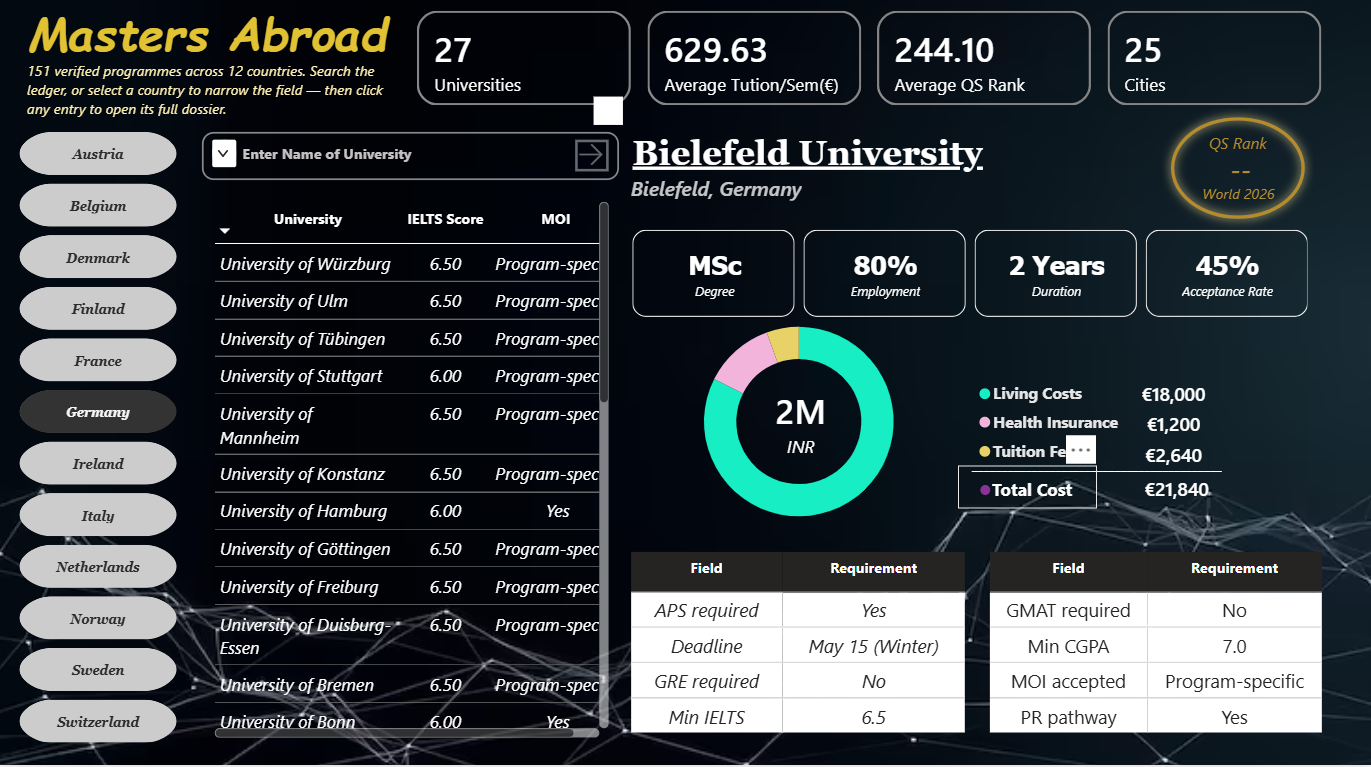

The page's visual inventory and layout, read from the dashboard file:
{"tool":"powerbi","page":{"name":"UniversityDashboard","canvas":[1280,720],"ordinal":0},"visuals":[{"type":"advancedSlicerVisual","fields":{"Values":["All Universities.Country"]},"box":[15,124.9,156.6,584.8],"z":0},{"type":"cardVisual","fields":{"Data":["Count(All Universities.University)","Avg(All Universities.Tuition/Sem (€))","Avg(All Universities.QS Ranking)","Count(All Universities.City)"]},"box":[384.8,11.7,853,98.3],"z":1000},{"type":"tableEx","fields":{"Values":["All Universities.University","Sum(All Universities.Min IELTS)","All Universities.MOI Accepted"]},"box":[194.9,189.9,378.2,508.1],"z":2000},{"type":"textSlicer","fields":{"Values":["All Universities.University"]},"box":[184.9,124.9,398.2,55],"z":3000},{"type":"donutChart","fields":{"Category":["Cost Category.Segment"],"Y":["Cost Category.Segment Value"]},"box":[572.7,284,482.8,230.3],"z":4000},{"type":"cardVisual","fields":{"Data":["All Universities.Effective University"]},"box":[573.1,106.6,509.8,81.6],"z":5000},{"type":"cardVisual","fields":{"Data":["All Universities.Spotlight Place"]},"box":[583.7,160.9,230.3,39.4],"z":6000},{"type":"cardVisual","fields":{"Data":["All Universities.Spotlight Total Cost INR"]},"box":[698.9,353.4,96.2,91.5],"z":7000},{"type":"cardVisual","fields":{"Data":["All Universities.Spotlight Degree","All Universities.Spotlight Employment Rate","All Universities.Spotlight Duration","All Universities.Spotlight Acceptance Rate"]},"box":[572.7,204,665.8,115.2],"z":8000},{"type":"shape","box":[1082.9,106.6,141.6,111.6],"z":9000},{"type":"cardVisual","fields":{"Data":["All Universities.Spotlight QS Rank"]},"box":[1090,144.9,133.3,35],"z":10000},{"type":"textbox","box":[1097,172,115.2,31.6],"z":11000},{"type":"cardVisual","fields":{"Data":["All Universities.Spotlight Living Cost","All Universities.Spotlight Tuition Fees","All Universities.Spotlight Health Insurance"]},"box":[1020.7,340.8,145.1,118.3],"z":12000},{"type":"cardVisual","fields":{"Data":["All Universities.Spotlight Total Cost"]},"box":[1021,430,151.5,58.4],"z":13000},{"type":"textbox","box":[856,425,332.9,28.4],"z":14000},{"type":"textbox","box":[893,439,129.4,41],"z":15000},{"type":"tableEx","fields":{"Values":["Requirement Fields.Field","All Universities.Requirement Value"]},"box":[583.1,514.8,323.2,194.9],"z":16000},{"type":"tableEx","fields":{"Values":["Requirement Fields.Field","All Universities.Requirement Value"]},"box":[916.3,514.8,321.5,204.9],"z":17000},{"type":"textbox","box":[11,2,368.2,101.6],"z":18000},{"type":"textbox","box":[22,58.3,364.8,71.6],"z":19000}]}

Visuals, with their boxes in screenshot pixels (x1, y1, x2, y2), scaled from the page's 1280x720 canvas onto the 1371x767 screenshot:
advancedSlicerVisual - All Universities.Country: <bbox>16, 133, 184, 756</bbox>
cardVisual - Count(All Universities.University) x Avg(All Universities.Tuition/Sem (€)): <bbox>412, 12, 1326, 117</bbox>
tableEx - All Universities.University x Sum(All Universities.Min IELTS): <bbox>209, 202, 614, 744</bbox>
textSlicer - All Universities.University: <bbox>198, 133, 625, 192</bbox>
donutChart - Cost Category.Segment x Cost Category.Segment Value: <bbox>613, 303, 1131, 548</bbox>
cardVisual - All Universities.Effective University: <bbox>614, 114, 1160, 200</bbox>
cardVisual - All Universities.Spotlight Place: <bbox>625, 171, 872, 213</bbox>
cardVisual - All Universities.Spotlight Total Cost INR: <bbox>749, 376, 852, 474</bbox>
cardVisual - All Universities.Spotlight Degree x All Universities.Spotlight Employment Rate: <bbox>613, 217, 1327, 340</bbox>
shape: <bbox>1160, 114, 1312, 232</bbox>
cardVisual - All Universities.Spotlight QS Rank: <bbox>1167, 154, 1310, 192</bbox>
textbox: <bbox>1175, 183, 1298, 217</bbox>
cardVisual - All Universities.Spotlight Living Cost x All Universities.Spotlight Tuition Fees: <bbox>1093, 363, 1249, 489</bbox>
cardVisual - All Universities.Spotlight Total Cost: <bbox>1094, 458, 1256, 520</bbox>
textbox: <bbox>917, 453, 1273, 483</bbox>
textbox: <bbox>956, 468, 1095, 511</bbox>
tableEx - Requirement Fields.Field x All Universities.Requirement Value: <bbox>625, 548, 971, 756</bbox>
tableEx - Requirement Fields.Field x All Universities.Requirement Value: <bbox>981, 548, 1326, 766</bbox>
textbox: <bbox>12, 2, 406, 110</bbox>
textbox: <bbox>24, 62, 414, 138</bbox>
